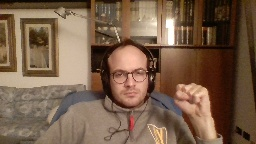Pugno: (170, 81, 212, 118)
